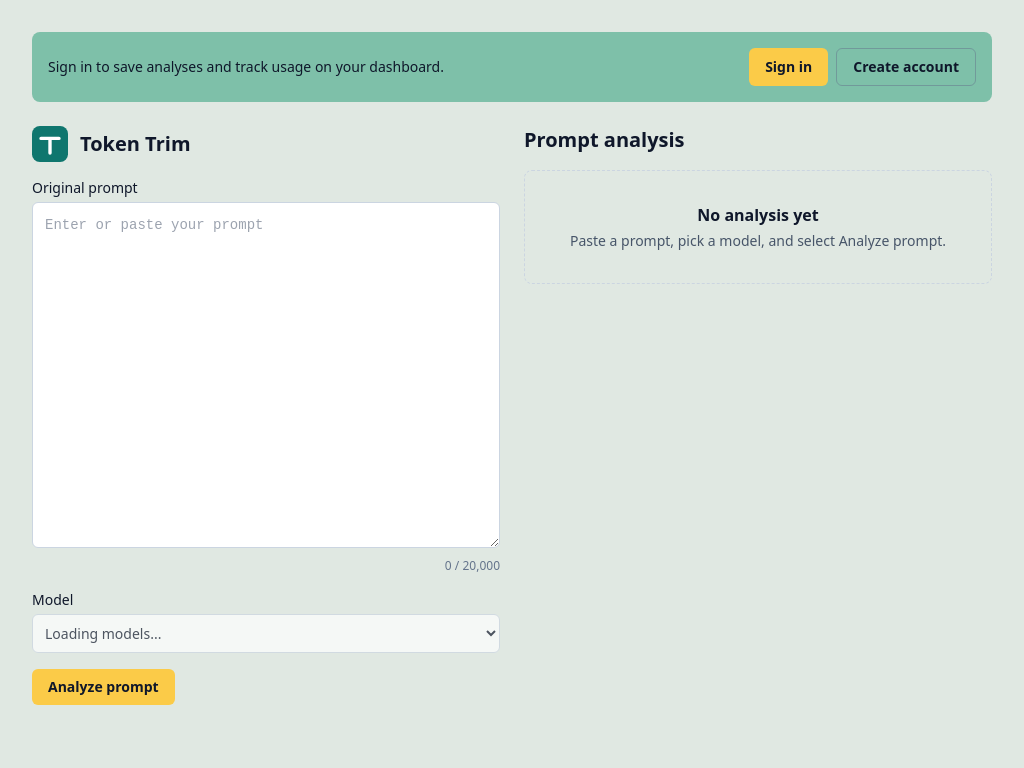
Scenario: Token Trim page › shows validation errors on empty submit
Click the button "Analyze prompt" at [103, 687], box 32,669 -> 175,705
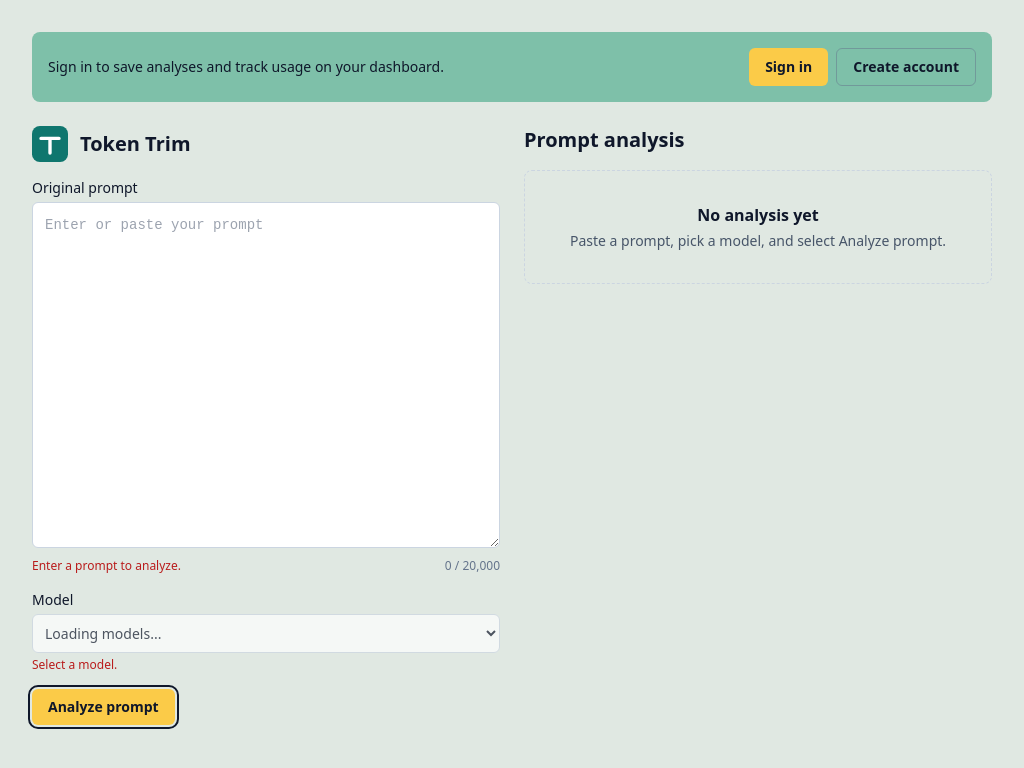
Now the text "Enter a prompt to analyze." is shown, box 32,558 -> 181,574
Now the text "Select a model." is shown, box 32,656 -> 117,673
